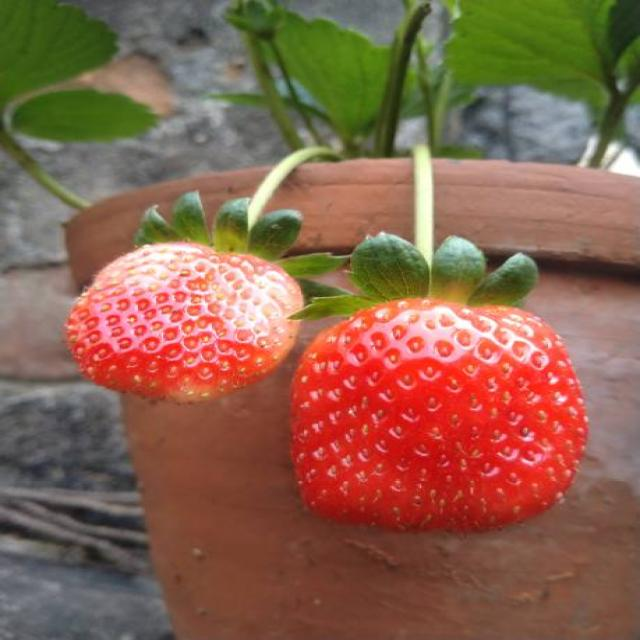Healthy Fruit: (288, 300, 586, 533), (67, 243, 301, 400)
